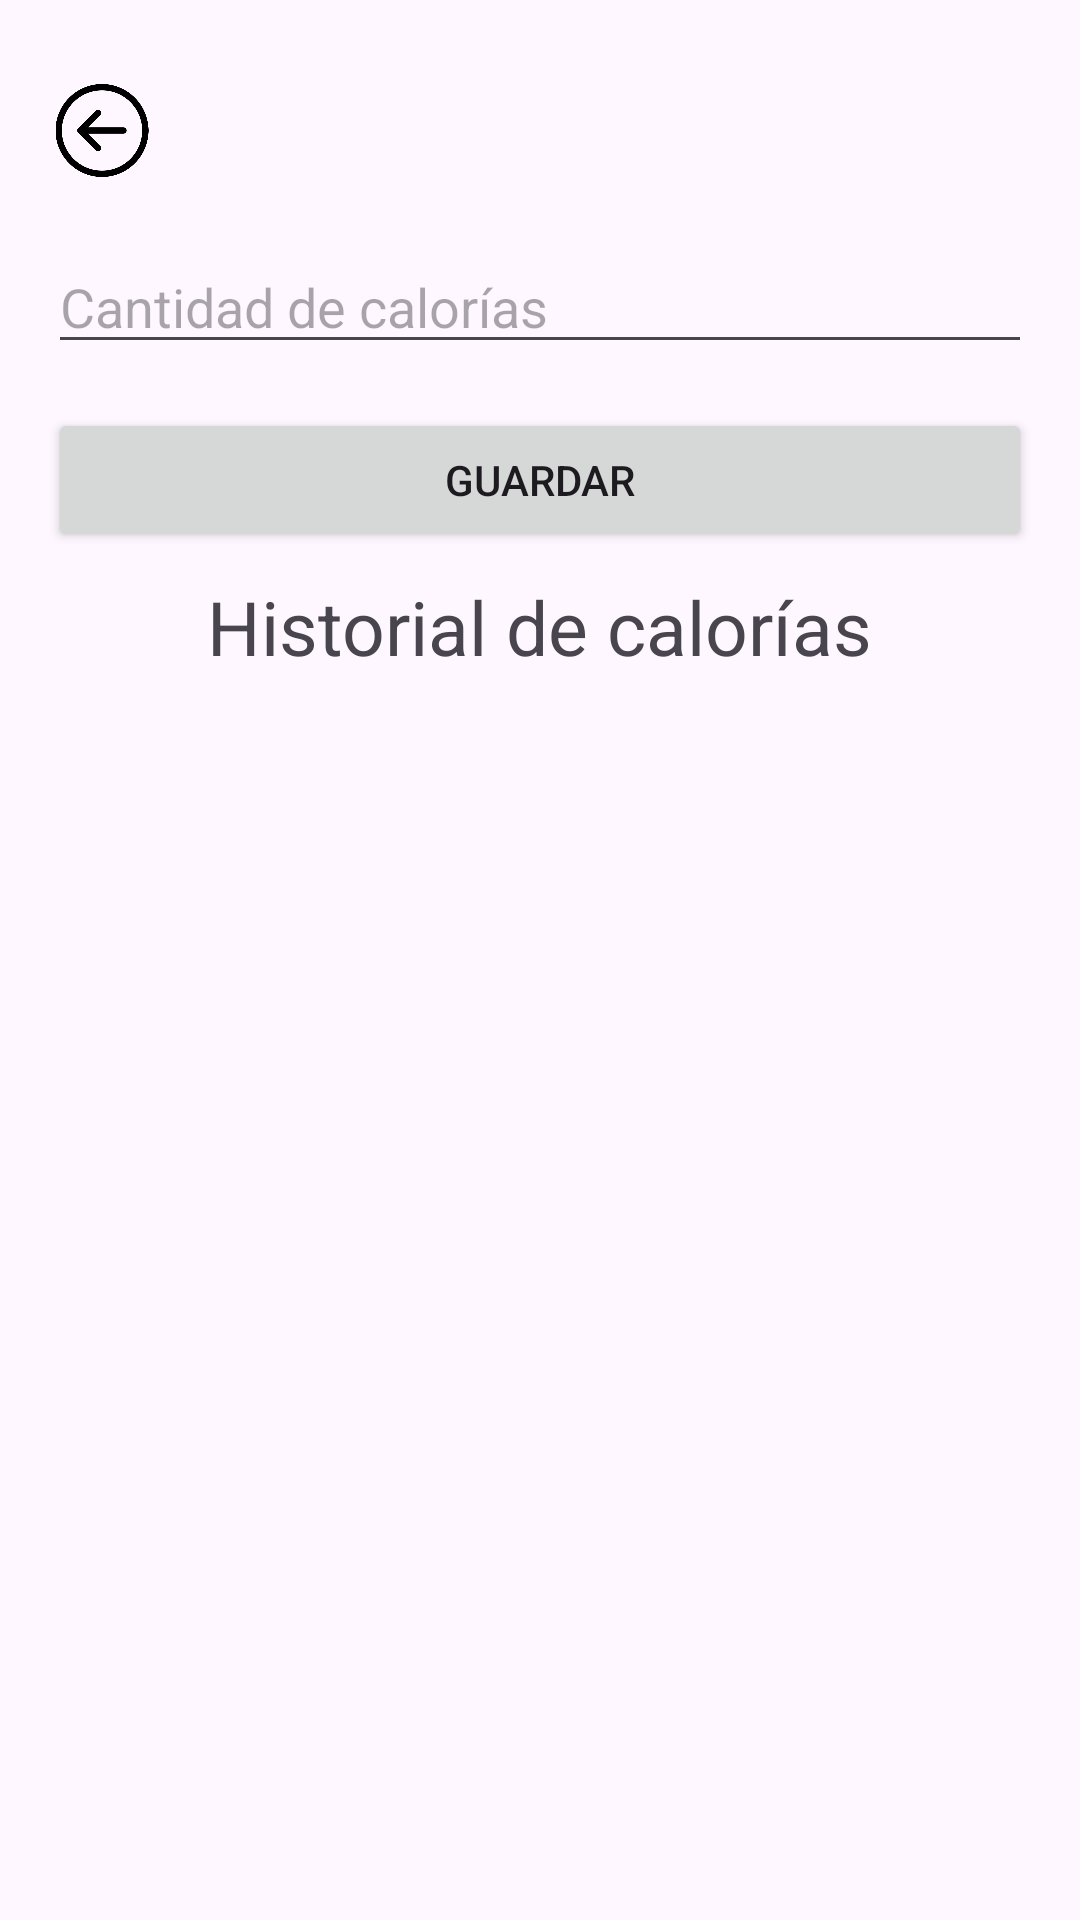

Named icons in this screenshot (1080w x 1920h) and their centers, (x,y):
back: (102,130)
